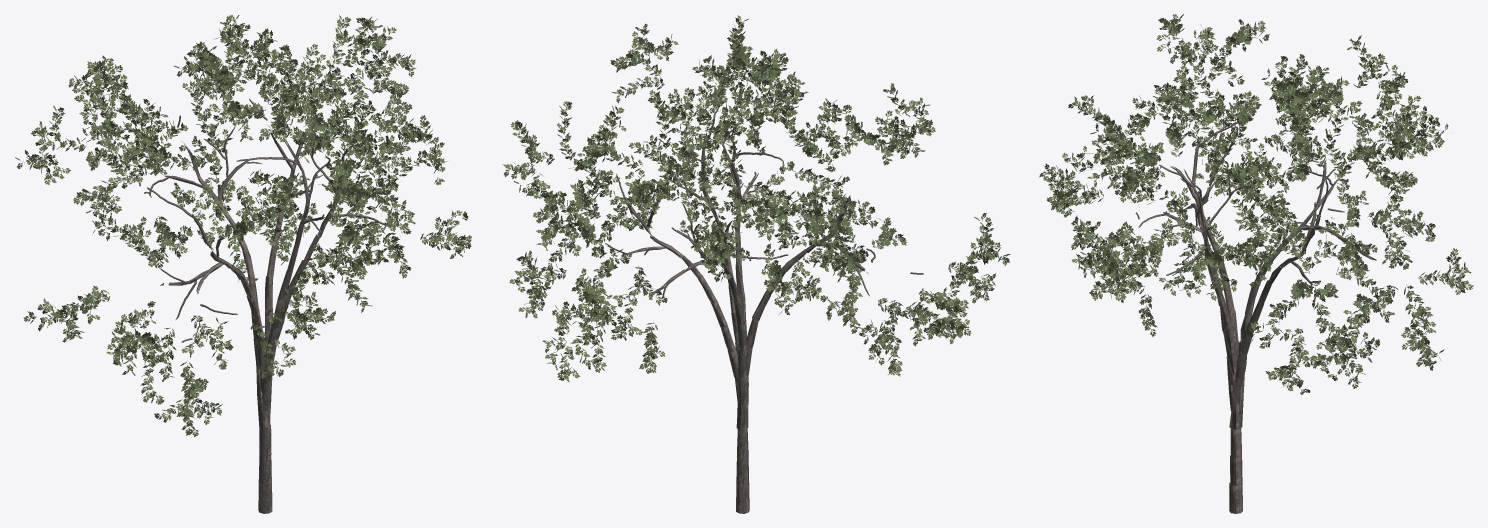
The model's file is elm3.glb.
The picture shows the model from 3 angles, left to right: view 1: azimuth 30°, elevation 25°; view 2: azimuth 150°, elevation 25°; view 3: azimuth 270°, elevation 25°; orthographic projection. The views are drawn at different scales.
Visible parts, largest first — view 1: leaves, bark; view 2: leaves, bark; view 3: leaves, bark.
Boxes of the visible parts, x1,y1,x2,y2 form: leaves: (15,15,471,437); bark: (144,93,395,513); leaves: (502,15,1010,382); bark: (592,97,923,513); leaves: (1039,14,1473,394); bark: (1135,119,1376,513).
Bounding box in the file's own units: 30.17 × 32.54 × 27.62.
2 materials, 2 textured.
